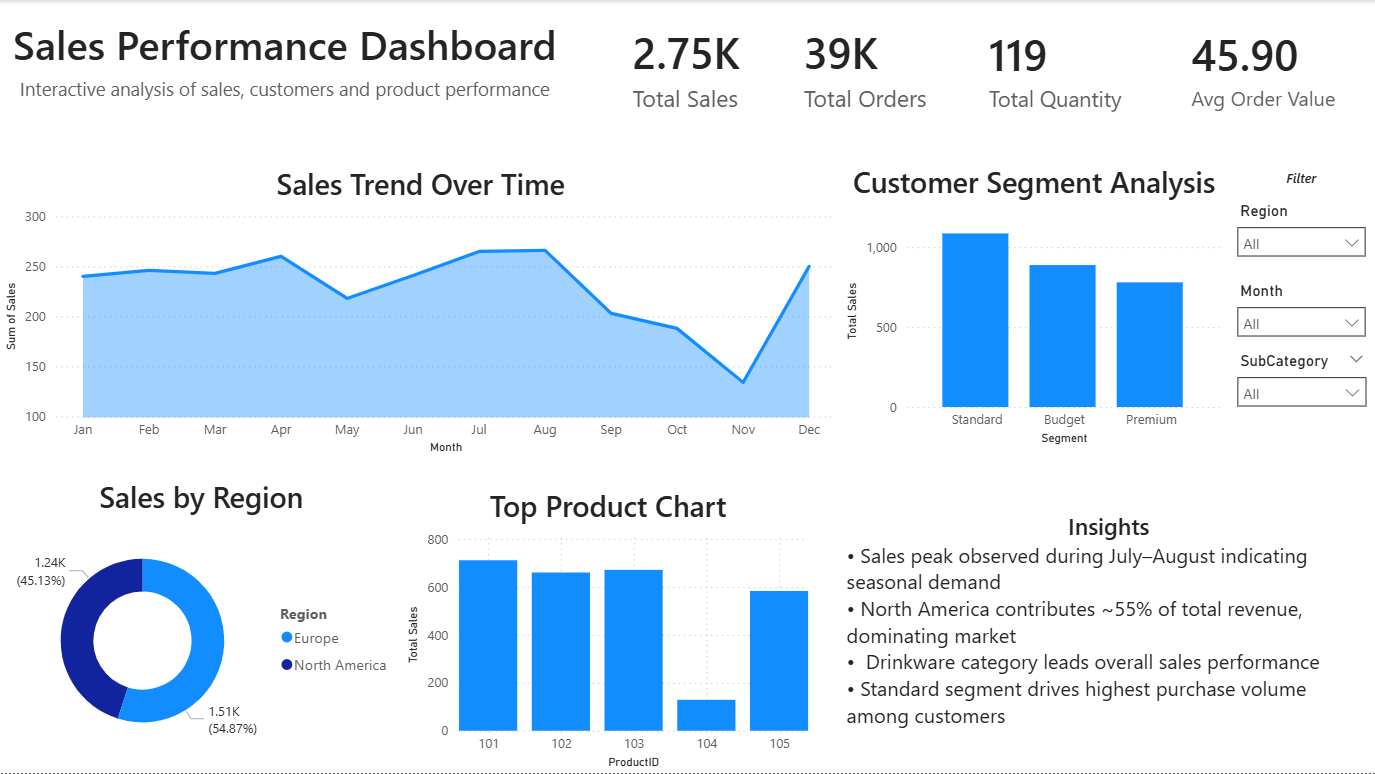

The page's visual inventory and layout, read from the dashboard file:
{"tool":"powerbi","page":{"name":"Page 1","canvas":[1280,720],"ordinal":0},"visuals":[{"type":"cardVisual","fields":{"Data":["Sales_data.Total Order"]},"box":[718.6,0,181.4,126.7],"z":0},{"type":"cardVisual","fields":{"Data":["Sales_data.Total Quantity"]},"box":[890.7,0,188.4,126.7],"z":1000},{"type":"cardVisual","fields":{"Data":["Sales_data.Avg Order Value"]},"box":[1079.1,0,201.2,126.7],"z":2000},{"type":"cardVisual","fields":{"Data":["Sales_data.Total Sales"]},"box":[559.3,0,159.3,126.7],"z":3000},{"type":"lineChart","title":"Sales Trend Over Time","fields":{"Y":["Sum(Sales_data.Sales)"],"Category":["Sales_data.Month"]},"box":[0,152.5,782.5,275],"z":4000},{"type":"donutChart","title":"Sales by Region","fields":{"Category":["Dim_Customers.Region"],"Y":["Sales_data.Total Sales"]},"box":[0,444.2,374.4,268.6],"z":5000},{"type":"columnChart","title":"Top Product Chart","fields":{"Category":["Sales_data.ProductID"],"Y":["Sales_data.Total Sales"]},"box":[374.4,452.3,382.6,267.4],"z":6000},{"type":"columnChart","title":"Customer Segment Analysis","fields":{"Category":["Dim_Customers.Segment"],"Y":["Sales_data.Total Sales"]},"box":[782.5,151.2,358.8,267.5],"z":7000},{"type":"slicer","fields":{"Values":["Dim_Customers.Region"]},"box":[1141.2,182.6,139.5,58.3],"z":7000,"group":"g1"},{"type":"group","id":"g1","title":"Group 1","box":[1140.9,151.2,140,259.7],"z":8000},{"type":"slicer","fields":{"Values":["Sales_data.Month"]},"box":[1141.2,257.2,139.5,64.4],"z":8000,"group":"g1"},{"type":"textbox","title":"Sales Performance Dashboard","box":[0,16.2,530,110],"z":9000},{"type":"slicer","fields":{"Values":["Dim_Products.SubCategory"]},"box":[1140.9,322.1,140,88.8],"z":9000,"group":"g1"},{"type":"textbox","box":[782.6,452.3,497.7,236],"z":10000},{"type":"textbox","box":[1141.2,151.2,139.5,31.4],"z":11002,"group":"g1"}]}

Visuals, with their boxes in screenshot pixels (x1, y1, x2, y2), scaled from the page's 1280x720 canvas onto the 1375x774 screenshot:
cardVisual - Sales_data.Total Order: x1=772 y1=0 x2=967 y2=136
cardVisual - Sales_data.Total Quantity: x1=957 y1=0 x2=1159 y2=136
cardVisual - Sales_data.Avg Order Value: x1=1159 y1=0 x2=1374 y2=136
cardVisual - Sales_data.Total Sales: x1=601 y1=0 x2=772 y2=136
"Sales Trend Over Time" lineChart: x1=0 y1=164 x2=841 y2=460
"Sales by Region" donutChart: x1=0 y1=478 x2=402 y2=766
"Top Product Chart" columnChart: x1=402 y1=486 x2=813 y2=773
"Customer Segment Analysis" columnChart: x1=841 y1=163 x2=1226 y2=450
slicer - Dim_Customers.Region: x1=1226 y1=196 x2=1374 y2=259
"Group 1" group: x1=1226 y1=163 x2=1374 y2=442
slicer - Sales_data.Month: x1=1226 y1=276 x2=1374 y2=346
"Sales Performance Dashboard" textbox: x1=0 y1=17 x2=569 y2=136
slicer - Dim_Products.SubCategory: x1=1226 y1=346 x2=1374 y2=442
textbox: x1=841 y1=486 x2=1374 y2=740
textbox: x1=1226 y1=163 x2=1374 y2=196
